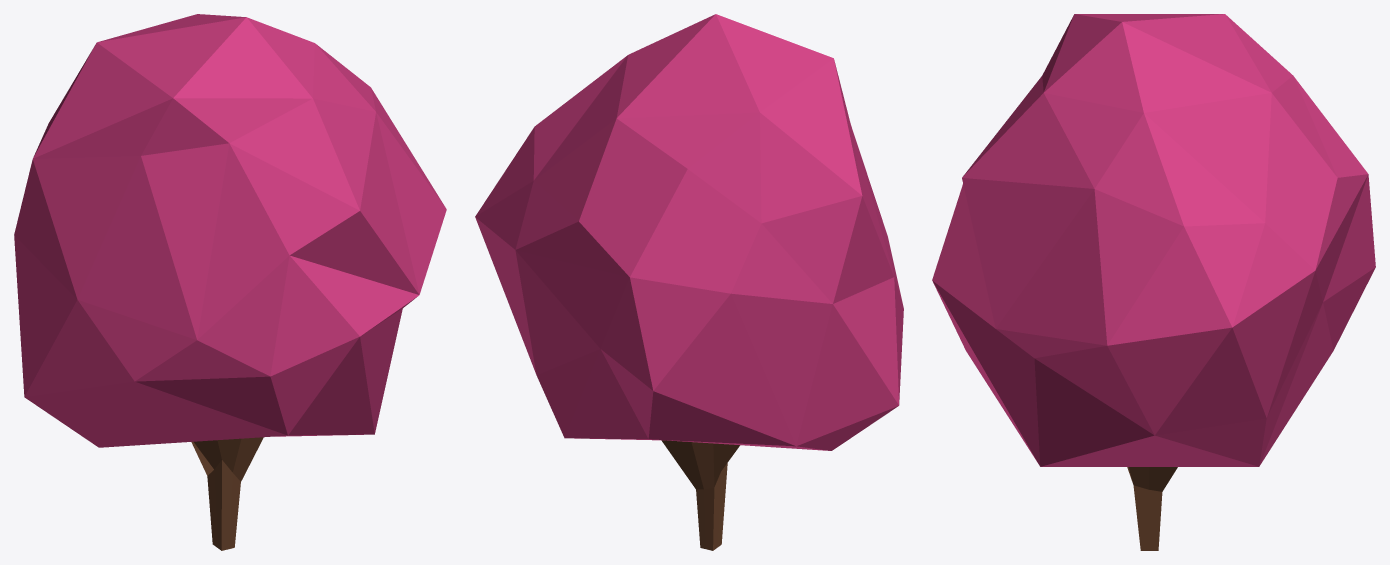
Rendered from Tree_21_Pink.fbx.
3 views of the same model, side by side, from view 1: azimuth 30°, elevation 25°; view 2: azimuth 150°, elevation 25°; view 3: azimuth 270°, elevation 25° (orthographic). The views are drawn at different scales.
Parts seen in each view (by area): view 1: Tree_21_Pink_Part_1, Tree_21_Pink_Part_2; view 2: Tree_21_Pink_Part_1, Tree_21_Pink_Part_2; view 3: Tree_21_Pink_Part_1, Tree_21_Pink_Part_2.
Boxes of the visible parts, x1,y1,x2,y2 form: Tree_21_Pink_Part_1: [14, 14, 446, 447]; Tree_21_Pink_Part_2: [191, 437, 263, 550]; Tree_21_Pink_Part_1: [475, 14, 903, 450]; Tree_21_Pink_Part_2: [661, 440, 739, 550]; Tree_21_Pink_Part_1: [932, 14, 1375, 466]; Tree_21_Pink_Part_2: [1127, 467, 1177, 550].
Bounding box in the file's own units: 616 × 793 × 601.
